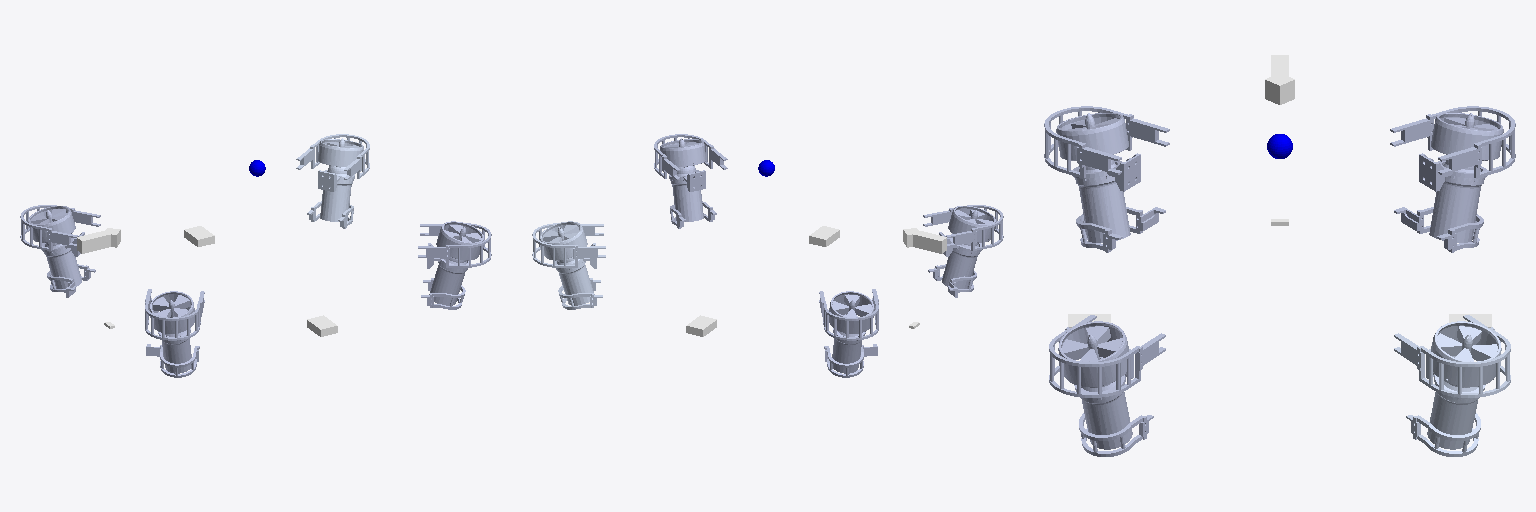
The robot description file, URDF, robot "zh_bot":
<?xml version="1.0"?>
<robot
  name="zh_bot">

<!-- 0.2 -->
  <link
    name="base_link">
    <inertial>
      <origin
        xyz="-0.465 0 0.4" 
        rpy="0 0 0" />
      <mass
        value="200" />
      <inertia
        ixx="19.33"
        ixy="0.0"
        ixz="0.0"
        iyy="45.33"
        iyz="0.0"
        izz="59.33" />
    </inertial>
    <visual>
      <origin
        xyz="0 0 0"
        rpy="0 0 0" />
      <geometry>
        <mesh
          filename="../meshes/base_link.STL" />
      </geometry>
      <material
        name="base">
        <color
          rgba="1 1 1 1" />
      </material>
    </visual>
    <collision>
      <origin
        xyz="-0.095 0 -0.15"
        rpy="0 0 0" />
      <geometry>
        <box size="1.6 1.0 0.3"/>
      </geometry>
    </collision>
  </link>

  <!-- base_link颜色 -->
  <gazebo reference="base_link">
    <material>Gazebo/Purple</material>
  </gazebo>


<!-- =========================================涵推========================================= -->

  <link
    name="RF0">
    <inertial>
      <origin
        xyz="0.0023406 -0.0016518 -0.14767"
        rpy="0 0 0" />
      <mass
        value="6.5" />
      <inertia
        ixx="0.0529"
        ixy="0.0"
        ixz="0.0"
        iyy="0.0529"
        iyz="0.0"
        izz="0.0208" />
    </inertial>
    <visual>
      <origin
        xyz="0 0 0"
        rpy="0 0 0" />
      <geometry>
        <mesh
          filename="../meshes/RF0.STL" />
      </geometry>
      <material
        name="">
        <color
          rgba="0.79216 0.81961 0.93333 1" />
      </material>
    </visual>
    <collision>
      <origin
        xyz="0 0 0"
        rpy="0 0 0" />
      <geometry>
        <cylinder radius="0.08" length="0.28"/>
      </geometry>
    </collision>
  </link>

  <joint
    name="joint0"
    type="fixed">
    <origin
      xyz="0.6047 -0.43671 -0.04739"
      rpy="0.16029 0.21768 0" />
    <parent
      link="base_link" />
    <child
      link="RF0" />
    <!-- <axis
      xyz="0 0 -1" /> -->
  </joint>

  <link
    name="LF1">
    <inertial>
      <origin
        xyz="0.00233195100255057 0.00162732509492236 -0.147642917138265"
        rpy="0 0 0" />
      <mass
        value="6.5" />
      <inertia
        ixx="0.0529"
        ixy="0.0"
        ixz="0.0"
        iyy="0.0529"
        iyz="0.0"
        izz="0.0208" />
    </inertial>
    <visual>
      <origin
        xyz="0 0 0"
        rpy="0 0 0" />
      <geometry>
        <mesh
          filename="../meshes/LF1.STL" />
      </geometry>
      <material
        name="">
        <color
          rgba="0.866666666666667 0.909803921568627 1 1" />
      </material>
    </visual>
    <collision>
      <origin
        xyz="0 0 0"
        rpy="0 0 0" />
      <geometry>
        <cylinder radius="0.08" length="0.28"/>
      </geometry>
    </collision>
  </link>

  <joint
    name="joint1"
    type="fixed">
    <origin
      xyz="0.604696931292277 0.436722940576791 -0.0473901548920162"
      rpy="-0.160290015126688 0.217683299669159 0" />
    <parent
      link="base_link" />
    <child
      link="LF1" />
    <!-- <axis
      xyz="0 0 -1" /> -->
  </joint>

  <link
    name="LH2">
    <inertial>
      <origin
        xyz="0.0275567633576045 0.00109661730481131 -0.144623002135796"
        rpy="0 0 0" />
      <mass
        value="6.5" />
      <inertia
        ixx="0.0529"
        ixy="0.0"
        ixz="0.0"
        iyy="0.0529"
        iyz="0.0"
        izz="0.0208" />
    </inertial>
    <visual>
      <origin
        xyz="0 0 0"
        rpy="0 0 0" />
      <geometry>
        <mesh
          filename="../meshes/LH2.STL" />
      </geometry>
      <material
        name="">
        <color
          rgba="0.792156862745098 0.819607843137255 0.933333333333333 1" />
      </material>
    </visual>
    <collision>
      <origin
        xyz="0 0 0"
        rpy="0 0 0" />
      <geometry>
        <cylinder radius="0.08" length="0.28"/>
      </geometry>
    </collision>
  </link>

  <joint
    name="joint2"
    type="fixed">
    <origin
      xyz="-0.611604847132862 0.441698528983451 -0.050206810202805"
      rpy="-0.165170447844218 0 0" />
    <parent
      link="base_link" />
    <child
      link="LH2" />
    <!-- <axis
      xyz="0.200237230601653 0 -0.979747442701934" /> -->
  </joint>

  <link
    name="RH3">
    <inertial>
      <origin
        xyz="0.027556670090006 -0.00109309808291025 -0.14459432166978"
        rpy="0 0 0" />
      <mass
        value="6.5" />
      <inertia
        ixx="0.0529"
        ixy="0.0"
        ixz="0.0"
        iyy="0.0529"
        iyz="0.0"
        izz="0.0208" />
    </inertial>
    <visual>
      <origin
        xyz="0 0 0"
        rpy="0 0 0" />
      <geometry>
        <mesh
          filename="../meshes/RH3.STL" />
      </geometry>
      <material
        name="">
        <color
          rgba="0.792156862745098 0.819607843137255 0.933333333333333 1" />
      </material>
    </visual>
    <collision>
      <origin
        xyz="0 0 0"
        rpy="0 0 0" />
      <geometry>
        <cylinder radius="0.08" length="0.28"/>
      </geometry>
    </collision>
  </link>
  
  <joint
    name="joint3"
    type="fixed">
    <origin
      xyz="-0.611604389313919 -0.441682804261644 -0.0502066838133057"
      rpy="0.165170447844218 0 0" />
    <parent
      link="base_link" />
    <child
      link="RH3" />
    <!-- <axis
      xyz="0.200237230601654 0 -0.979747442701934" /> -->
  </joint>

  <!-- 颜色 -->
  <gazebo reference="RF0">
    <material>Gazebo/Yellow</material>
  </gazebo>
  <gazebo reference="LF1">
    <material>Gazebo/Yellow</material>
  </gazebo>
  <gazebo reference="LH2">
    <material>Gazebo/Yellow</material>
  </gazebo>
  <gazebo reference="RH3">
    <material>Gazebo/Yellow</material>
  </gazebo>


<!-- =========================================left_wheel_link========================================= -->
  <link
    name="left_wheel_link">
    <inertial>
      <origin
        xyz="4.8186015848134E-06 -0.0399986128209614 3.6749762934718E-06"
        rpy="0 0 0" />
      <mass
        value="4" />
      <inertia
        ixx="0.0185"
        ixy="0.0"
        ixz="0.0"
        iyy="0.0328"
        iyz="0.0"
        izz="0.0185" />
    </inertial>
    <visual>
      <origin
        xyz="0 0 0"
        rpy="0 0 0" />
      <geometry>
        <mesh
          filename="../meshes/left_wheel_link.STL" />
      </geometry>
      <material
        name="">
        <color
          rgba="1 1 1 1" />
      </material>
    </visual>
    <!-- ★ 侧面标牌：白色薄盒，稍微伸出轮侧，随轮一起旋转 -->
    <visual name="left_wheel_marker">
      <origin xyz="0.15 -0.04 0" rpy="0 0 0"/>
      <geometry><box size="0.07 0.10 0.03"/></geometry>
      <material name="marker_mat"><color rgba="1 1 1 1"/></material>
    </visual>

    <collision>
      <origin xyz="0 -0.04 0" rpy="1.5708 0  0"/>
      <geometry><cylinder radius="0.128" length="0.08"/></geometry>
    </collision>

  </link>


  <joint
    name="left_wheel_joint"
    type="continuous">
    <origin
      xyz="-0.1355 0.47901 -0.3"
      rpy="0 0 0" />
    <parent
      link="base_link" />
    <child
      link="left_wheel_link" />
    <axis
      xyz="0 1 0" />
  </joint>
  
  <gazebo reference="left_wheel_link"><mu1>1.7</mu1><mu2>1.7</mu2></gazebo>
  <gazebo reference="left_wheel_link">
    <material>Gazebo/Red</material>
  </gazebo>

<!-- =========================================right_wheel_link========================================= -->

  <link
    name="right_wheel_link">
    <inertial>
      <origin
        xyz="-7.80542907308224E-07 0.039998613532473 6.00903970805061E-06"
        rpy="0 0 0" />
      <mass
        value="4.0" />
      <inertia
        ixx="0.0185"
        ixy="0.0"
        ixz="0.0"
        iyy="0.0328"
        iyz="0.0"
        izz="0.0185" />
    </inertial>
    <visual>
      <origin
        xyz="0 0 0"
        rpy="0 0 0" />
      <geometry>
        <mesh
          filename="../meshes/right_wheel_link.STL" />
      </geometry>
      <material
        name="">
        <color
          rgba="0.250980392156863 0.250980392156863 0.250980392156863 1" />
      </material>
    </visual>

    <!-- ★ 右侧标牌（与左对称） -->
    <visual name="right_wheel_marker">
      <origin xyz="0.15 0.04 0" rpy="0 0 0"/>
      <geometry><box size="0.07 0.10 0.03"/></geometry>
      <material name="marker_mat"/>
    </visual>

    <collision>
      <origin xyz="0 0.04 0" rpy="1.5708 0  0"/>
      <geometry><cylinder radius="0.128" length="0.08"/></geometry>
    </collision>

  </link>

  <joint
    name="right_wheel_joint"
    type="continuous">
    <origin
      xyz="-0.1355 -0.47899 -0.3"
      rpy="0 0 0" />
    <parent
      link="base_link" />
    <child
      link="right_wheel_link" />
    <axis
      xyz="0 1 0" />
    <!-- <dynamics
      friction="0.8" /> -->
  </joint>

  <gazebo reference="right_wheel_link"><mu1>1.7</mu1><mu2>1.7</mu2></gazebo>
  <gazebo reference="right_wheel_link">
    <material>Gazebo/Red</material>
  </gazebo>

<!-- =========================================steering_wheel_link========================================= -->
  <link
    name="steering_wheel_link">
    <inertial>
      <origin
        xyz="-6.98189367431823E-09 0.000685095143032943 -0.124490103299074"
        rpy="0 0 0" />
      <mass
        value="5" />
      <inertia
        ixx="0.034"
        ixy="0.0"
        ixz="0.0"
        iyy="0.034"
        iyz="0.0"
        izz="0.016" />
    </inertial>
    <visual>
      <origin
        xyz="0 0 0"
        rpy="0 0 0" />
      <geometry>
        <mesh
          filename="../meshes/steering_wheel_link.STL" />
      </geometry>
      <material
        name="">
        <color
          rgba="1 0.949019607843137 0.909803921568627 1" />
      </material>
    </visual>

   <!-- ★ 上侧标牌（改为箭头） -->
    <!-- 箭杆：白色长方条 -->
    <visual name="steering_wheel_arrow_shaft">
      <origin xyz="0.0 0 0.2" rpy="0 0 1.5708"/>
      <geometry><box size="0.04 0.15 0.05"/></geometry> <!-- 细长条作为箭杆 -->
      <material name="marker_mat"/>
    </visual>
    
    <!-- 箭头头部：旋转45度的短方条 -->
    <visual name="steering_wheel_arrow_head">
      <origin xyz="0.06 0.0 0.2" rpy="0 0 2.3562"/> <!-- 0.7854=π/4弧度(45°) -->
      <geometry><box size="0.05 0.05 0.05"/></geometry> <!-- 短方条作为箭头 -->
      <material name="marker_mat"/>
    </visual>

    <collision>
      <origin
        xyz="0 0 0"
        rpy="0 0 0" />
      <geometry>
        <cylinder radius="0.08" length="0.25"/>
      </geometry>
    </collision>

  </link>

  <joint
    name="steering_wheel_joint"
    type="revolute">
    <origin
      xyz="-0.66013 0 -0.184"
      rpy="0 0 0" />
    <parent
      link="base_link" />
    <child
      link="steering_wheel_link" />
    <axis
      xyz="0 0 -1" />
    <limit lower="-3.1416" upper="3.1416" effort="5" velocity="1.0"/> 
  </joint>

  <gazebo reference="steering_wheel_link">
    <material>Gazebo/Gold</material>
  </gazebo>

  <link
    name="caster_wheel_link">
    <inertial>
      <origin
        xyz="-1.96177979416845E-09 -1.32293065391309E-10 1.5746578346798E-09"
        rpy="0 0 0" />
      <mass
        value="4" />
      <inertia
        ixx="0.019"
        ixy="0.0"
        ixz="0.0"
        iyy="0.020"
        iyz="0.0"
        izz="0.019" />
    </inertial>
    <visual>
      <origin
        xyz="0 0 0"
        rpy="0 0 0" />
      <geometry>
        <mesh
          filename="../meshes/caster_wheel_link.STL" />
      </geometry>
      <material
        name="">
        <color
          rgba="0.223529411764706 0.223529411764706 0.223529411764706 1" />
      </material>
    </visual>

    <!-- ★ 侧面标牌：白色薄盒，稍微伸出轮侧，随轮一起旋转 -->
    <visual name="caster_wheel_marker">
      <origin xyz="0.05 0 0" rpy="0 1.5708 0"/>
      <geometry><box size="0.01 0.04 0.02"/></geometry>
      <material name="marker_mat"><color rgba="1 1 1 1"/></material>
    </visual>
    
    <collision>
      <origin xyz="0 0 0" rpy="1.5708 0  0"/>
      <geometry><cylinder radius="0.10" length="0.165"/></geometry>
    </collision>

  </link>

  <joint
    name="caster_wheel_joint"
    type="continuous">
    <origin
      xyz="0 0 -0.1435"
      rpy="0 0 0" />
    <parent
      link="steering_wheel_link" />
    <child
      link="caster_wheel_link" />
    <axis
      xyz="0 -1 0" />
    <!-- <dynamics
      friction="0.8" /> -->
  </joint>

  <gazebo reference="caster_wheel_link">
    <material>Gazebo/Gold</material>
    <mu1>1.7</mu1> <mu2>1.7</mu2>
  </gazebo>

<!-- ──────────────────────────── Sensors ──────────────────────────── -->
  <!-- IMU (500 Hz, noiseless示例，可在插件内配置噪声) -->
  <link name="imu_link">
    <visual>
      <geometry><sphere radius="0.03"/></geometry>
      <material name="blue_imu"><color rgba="0 0 1 1"/></material>
    </visual>
  </link>
  <joint name="imu_fixed_joint" type="fixed">
    <origin xyz="0 0 0.15" rpy="0 0 0"/>
    <parent link="base_link"/>
    <child  link="imu_link"/>
  </joint>

  <gazebo reference="imu_link">
      <sensor name="imu_sensor" type="imu">
          <plugin name="imu_plugin" filename="libgazebo_ros_imu_sensor.so">
              <ros>
                  <namespace>/</namespace>
                  <remapping>~/out:=imu/data</remapping>
              </ros>
              <initial_orientation_as_reference>false</initial_orientation_as_reference>
          </plugin>
          <update_rate>500</update_rate>
          <always_on>true</always_on>
          <!-- 六轴噪声设置 -->
          <imu>
              <angular_velocity>
                  <x>
                      <noise type="gaussian">
                          <mean>0.0</mean>
                          <stddev>2e-4</stddev>
                          <bias_mean>0.0000075</bias_mean>
                          <bias_stddev>0.0000008</bias_stddev>
                      </noise>
                  </x>
                  <y>
                      <noise type="gaussian">
                          <mean>0.0</mean>
                          <stddev>2e-4</stddev>
                          <bias_mean>0.0000075</bias_mean>
                          <bias_stddev>0.0000008</bias_stddev>
                      </noise>
                  </y>
                  <z>
                      <noise type="gaussian">
                          <mean>0.0</mean>
                          <stddev>2e-4</stddev>
                          <bias_mean>0.0000075</bias_mean>
                          <bias_stddev>0.0000008</bias_stddev>
                      </noise>
                  </z>
              </angular_velocity>
              <linear_acceleration>
                  <x>
                      <noise type="gaussian">
                          <mean>0.0</mean>
                          <stddev>1.7e-2</stddev>
                          <bias_mean>0.1</bias_mean>
                          <bias_stddev>0.001</bias_stddev>
                      </noise>
                  </x>
                  <y>
                      <noise type="gaussian">
                          <mean>0.0</mean>
                          <stddev>1.7e-2</stddev>
                          <bias_mean>0.1</bias_mean>
                          <bias_stddev>0.001</bias_stddev>
                      </noise>
                  </y>
                  <z>
                      <noise type="gaussian">
                          <mean>0.0</mean>
                          <stddev>1.7e-2</stddev>
                          <bias_mean>0.1</bias_mean>
                          <bias_stddev>0.001</bias_stddev>
                      </noise>
                  </z>
              </linear_acceleration>
          </imu>
      </sensor>
  </gazebo>

  <gazebo reference="imu_link">
    <material>Gazebo/Blue</material>
    <mu1>1.7</mu1> <mu2>1.7</mu2>
  </gazebo>
  <!-- ─────────────────────── ros2_control transmissions ─────────────── -->
  <transmission name="left_wheel_trans">
    <type>transmission_interface/SimpleTransmission</type>
    <joint name="left_wheel_joint">
      <hardwareInterface>hardware_interface/velocity</hardwareInterface>
    </joint>
    <actuator name="left_wheel_motor">
      <hardwareInterface>hardware_interface/velocity</hardwareInterface>
      <mechanicalReduction>1</mechanicalReduction>
    </actuator>
  </transmission>

  <transmission name="right_wheel_trans">
    <type>transmission_interface/SimpleTransmission</type>
    <joint name="right_wheel_joint">
      <hardwareInterface>hardware_interface/velocity</hardwareInterface>
    </joint>
    <actuator name="right_wheel_motor">
      <hardwareInterface>hardware_interface/velocity</hardwareInterface>
      <mechanicalReduction>1</mechanicalReduction>
    </actuator>
  </transmission>

  <transmission name="steering_trans">
    <type>transmission_interface/SimpleTransmission</type>
    <joint name="steering_wheel_joint">
      <hardwareInterface>hardware_interface/position</hardwareInterface>
    </joint>
    <actuator name="steering_motor">
      <hardwareInterface>hardware_interface/position</hardwareInterface>
      <mechanicalReduction>1</mechanicalReduction>
    </actuator>
  </transmission>

  <!-- ──────────────────────── Gazebo 插件 ──────────────────────────── -->
  <gazebo>
    <plugin filename="libgazebo_ros2_control.so" name="gazebo_ros2_control">
        <parameters>[local-path]/uwbot_ctl/src/robot_description/uwrobot/config/controllers.yaml</parameters>    
    </plugin>
  </gazebo>

  <!-- ──────────────────────── Gazebo 位置姿态 ──────────────────────────── -->
  <gazebo>
    <plugin name="p3d_base_controller" filename="libgazebo_ros_p3d.so">
      <body_name>base_link</body_name>
      <frameName>base_link</frameName>
      <referenceFrame>world</referenceFrame>
    </plugin>
  </gazebo>

  <!-- Show the trajectory of trunk center. -->
  <gazebo>
      <plugin name="3dplot" filename="libLinkPlot3DPlugin.so">
          <frequency>10</frequency>
          <plot>
              <link>base_link</link>
              <pose>0 0 0 0 0 0</pose>
              <material>Gazebo/Yellow</material>
          </plot>
      </plugin>
  </gazebo>

  <!-- ─────────────────────── ros2_control 配置 ─────────────────────── -->
  <ros2_control name="robot_ctr" type="system">
    <hardware>
      <plugin>gazebo_ros2_control/GazeboSystem</plugin>
    </hardware>

    <joint name="left_wheel_joint">
      <command_interface name="velocity"/>
      <state_interface name="position"/>
      <state_interface name="velocity"/>
    </joint>

    <joint name="right_wheel_joint">
      <command_interface name="velocity"/>
      <state_interface name="position"/>
      <state_interface name="velocity"/>
    </joint>

    <joint name="steering_wheel_joint">
      <command_interface name="position"/>
      <state_interface name="position"/>
      <state_interface name="velocity"/>
    </joint>
  </ros2_control>

</robot>

--- What the picture shows (computed from the rendered views, not written in the file) ---
Views: 3 orthographic renders of the robot side by side, from view 1: azimuth 30°, elevation 25°; view 2: azimuth 150°, elevation 25°; view 3: azimuth 270°, elevation 25°.
Model zh_bot with 10 links and 9 joints (1 revolute, 3 continuous, 5 fixed), rooted at base_link, posed all joints at 0.
Links seen in each view (by area): view 1: RF0, LH2, LF1, RH3, steering_wheel_link; view 2: LF1, RH3, RF0, LH2, steering_wheel_link; view 3: RH3, LH2, RF0, LF1, steering_wheel_link.
Link boxes in pixels (<box>): RF0: <box>418,221,491,309</box>; LH2: <box>20,205,100,297</box>; LF1: <box>296,134,369,228</box>; RH3: <box>145,289,204,377</box>; steering_wheel_link: <box>77,228,120,253</box>; LF1: <box>532,221,605,309</box>; RH3: <box>923,205,1003,297</box>; RF0: <box>654,134,727,228</box>; LH2: <box>819,289,878,377</box>; steering_wheel_link: <box>903,228,946,253</box>; RH3: <box>1044,106,1169,252</box>; LH2: <box>1390,106,1515,252</box>; RF0: <box>1049,315,1165,456</box>; LF1: <box>1394,315,1510,456</box>; steering_wheel_link: <box>1265,55,1294,104</box>.
Bounding box of the posed robot: 1.44 × 1.09 × 0.539 m (x, y, z).
4 mesh visuals loaded from 9 distinct referenced files (4 binary STL); not drawn: 5 (reference not matched to a file when rendering).
